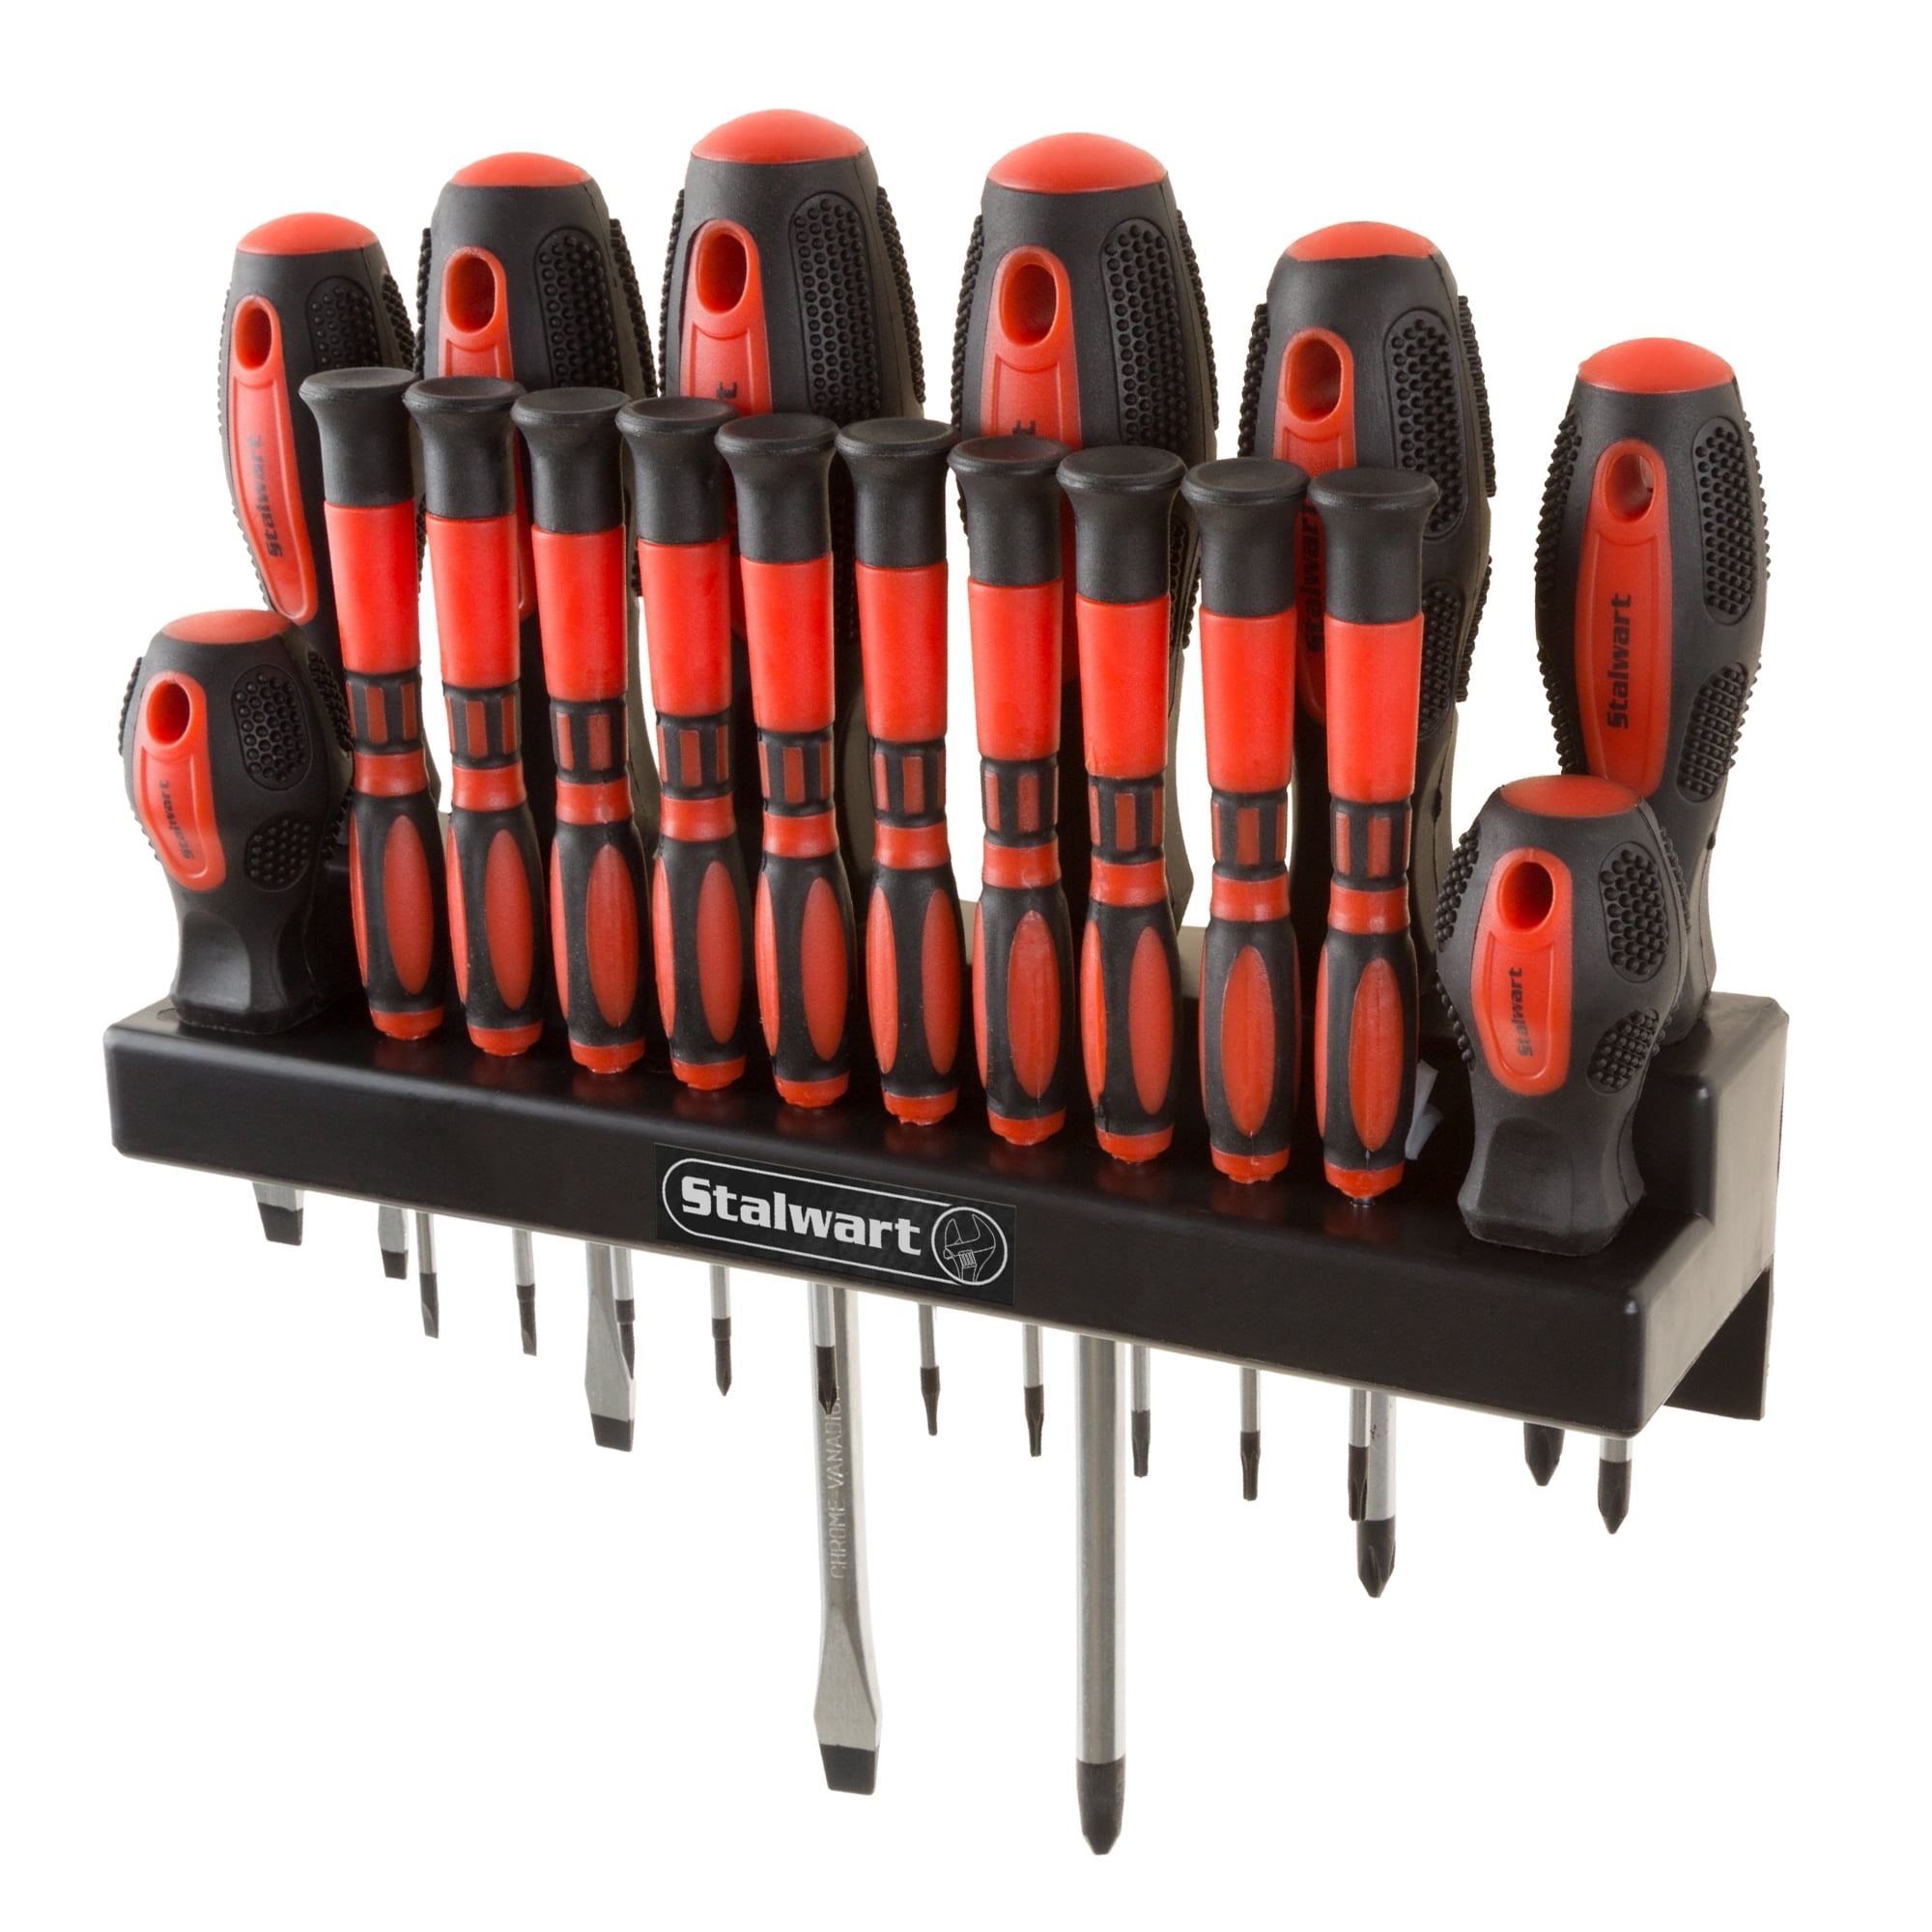screwdriver: (655, 108, 929, 1815), (959, 129, 1221, 1859), (1251, 214, 1491, 1598), (1442, 770, 1684, 1568), (835, 410, 993, 1447), (292, 359, 449, 1339), (947, 421, 1083, 1463), (407, 370, 543, 1382), (1180, 464, 1307, 1520), (1058, 433, 1185, 1484), (124, 602, 324, 1258), (511, 380, 639, 1387), (1546, 331, 1651, 1541), (1306, 465, 1401, 1603), (402, 140, 628, 577), (752, 410, 842, 1412), (655, 396, 741, 1403), (214, 209, 416, 637)
